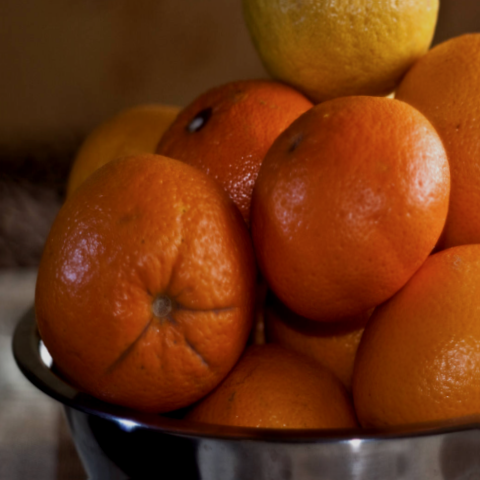orange: (21, 145, 263, 433), (229, 48, 457, 334)
